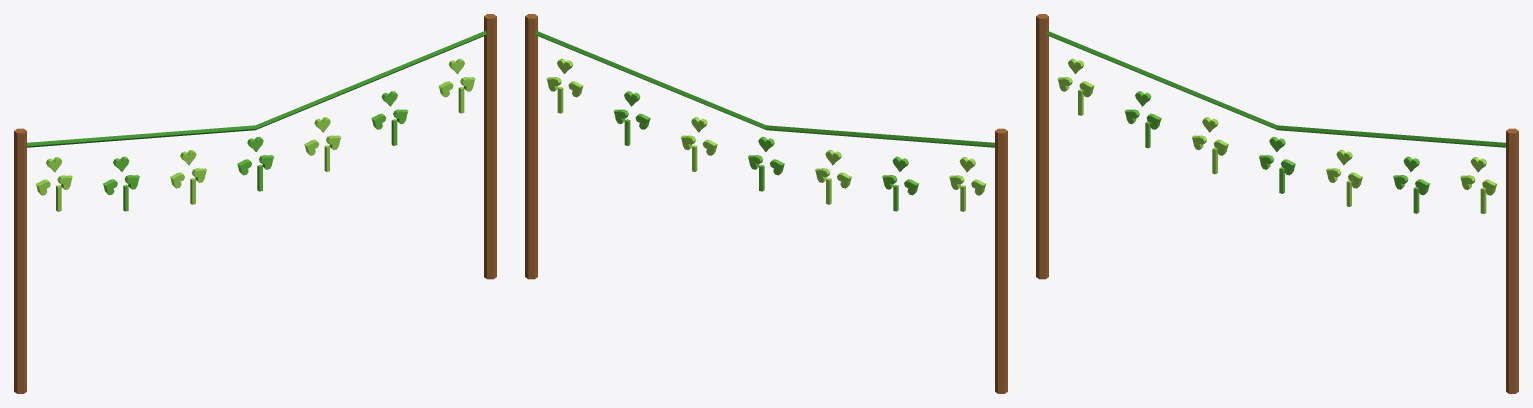
Rendered from ShamrockGarland.fbx.
3 views of the same model, side by side, from view 1: azimuth 30°, elevation 25°; view 2: azimuth 150°, elevation 25°; view 3: azimuth 330°, elevation 25° (orthographic).
Visible parts, largest first — view 1: ShamrockGarland; view 2: ShamrockGarland; view 3: ShamrockGarland.
Boxes of the visible parts, <box> form: ShamrockGarland: <box>14,14,496,393</box>; ShamrockGarland: <box>525,14,1007,393</box>; ShamrockGarland: <box>1036,14,1518,393</box>.
Bounding box in the file's own units: 10.21 × 5.3 × 0.24.
Materials: 1 (1 with a texture image).
